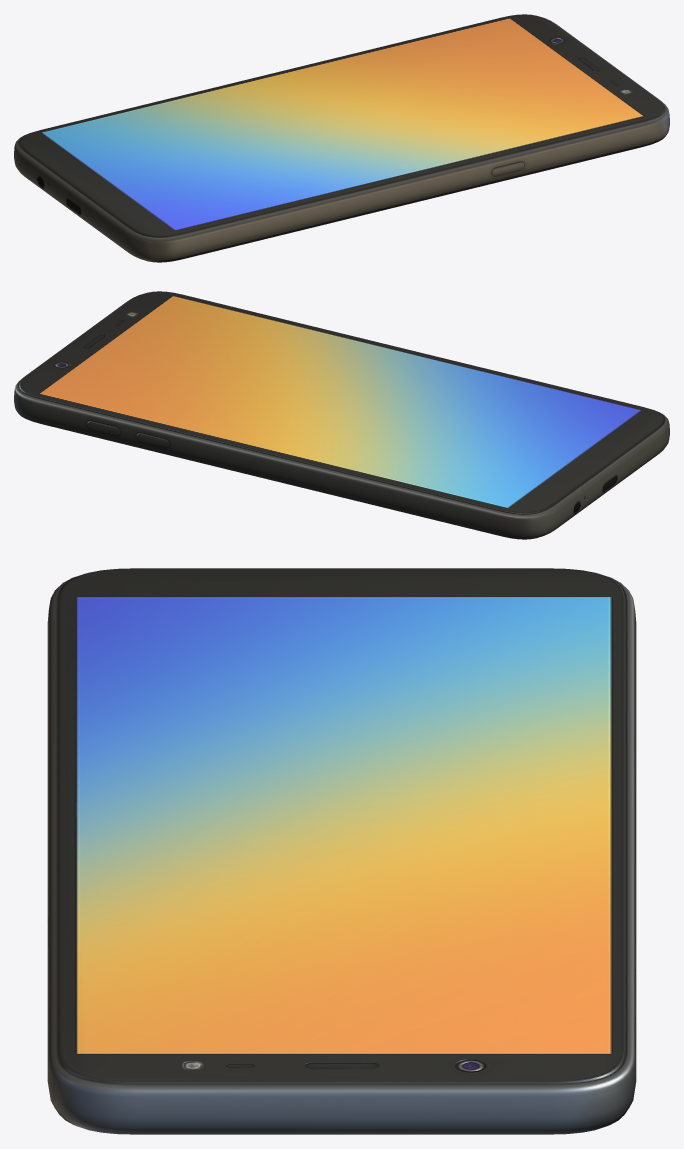
Rendered from phone.dae.
The picture shows the model from 3 angles, top to bottom: view 1: azimuth 30°, elevation 25°; view 2: azimuth 150°, elevation 25°; view 3: azimuth 270°, elevation 25°; orthographic projection. The views are drawn at different scales.
Visible parts, largest first — view 1: J8; view 2: J8; view 3: J8.
Boxes of the visible parts, left/top/right/bottom form: J8: left=14, top=14, right=669, bottom=262; J8: left=14, top=291, right=669, bottom=539; J8: left=47, top=568, right=636, bottom=1134.
Bounding box in the file's own units: 16 × 7.6 × 0.8.
Materials: 1 (1 with a texture image).
